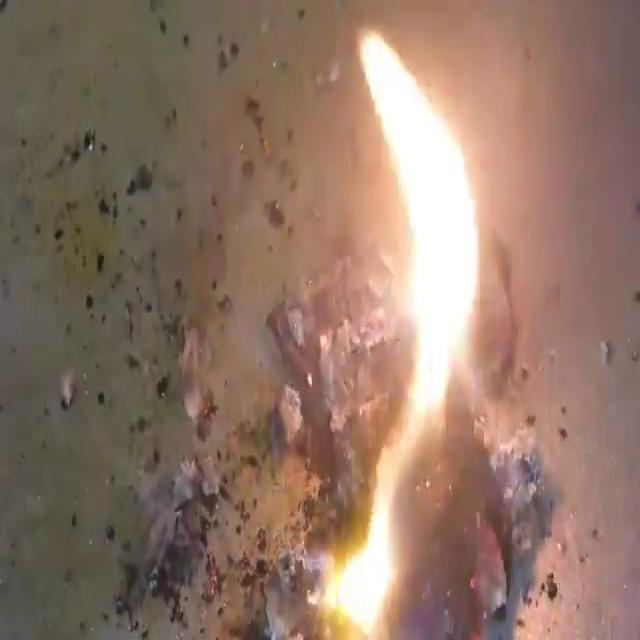Fire: (255, 10, 534, 640)
